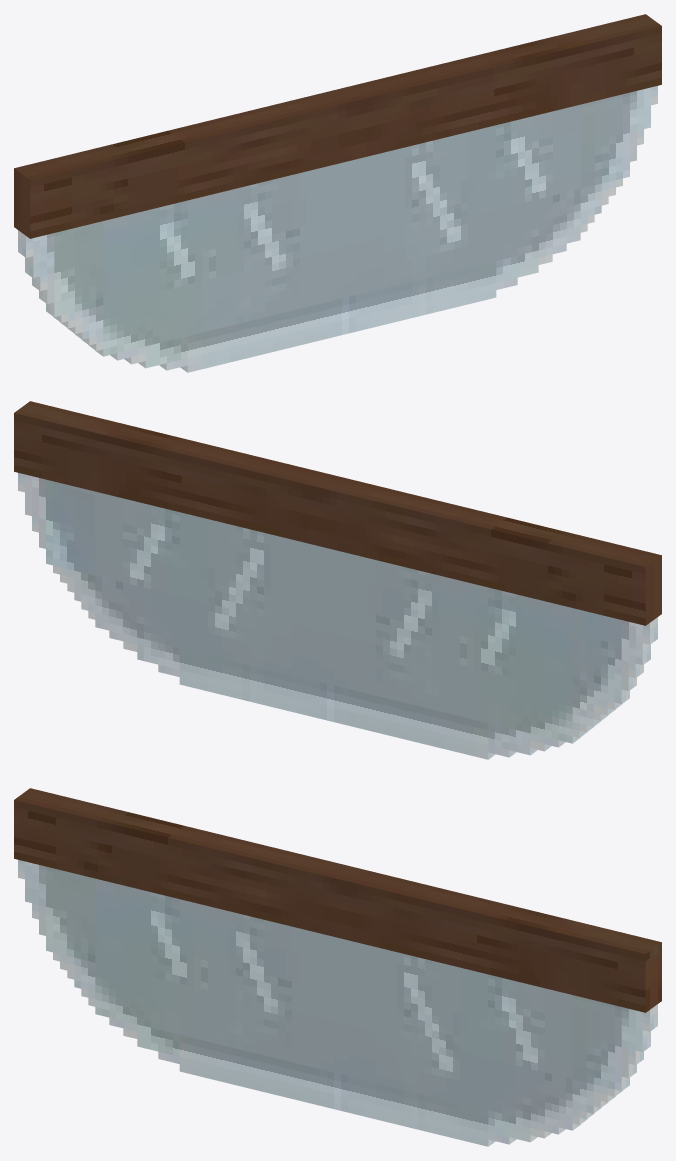
The model's file is trap-7_3.glb.
The picture shows the model from 3 angles, top to bottom: view 1: azimuth 30°, elevation 25°; view 2: azimuth 150°, elevation 25°; view 3: azimuth 330°, elevation 25°; orthographic projection.
Visible parts, largest first — view 1: Trap$$7-Local; view 2: Trap$$7-Local; view 3: Trap$$7-Local.
Part boxes in pixels (<box>): Trap$$7-Local: <box>14,14,661,372</box>; Trap$$7-Local: <box>14,401,661,759</box>; Trap$$7-Local: <box>14,788,661,1146</box>.
Bounding box in the file's own units: 22.5 × 8 × 0.9998.
1 material, 1 textured.
